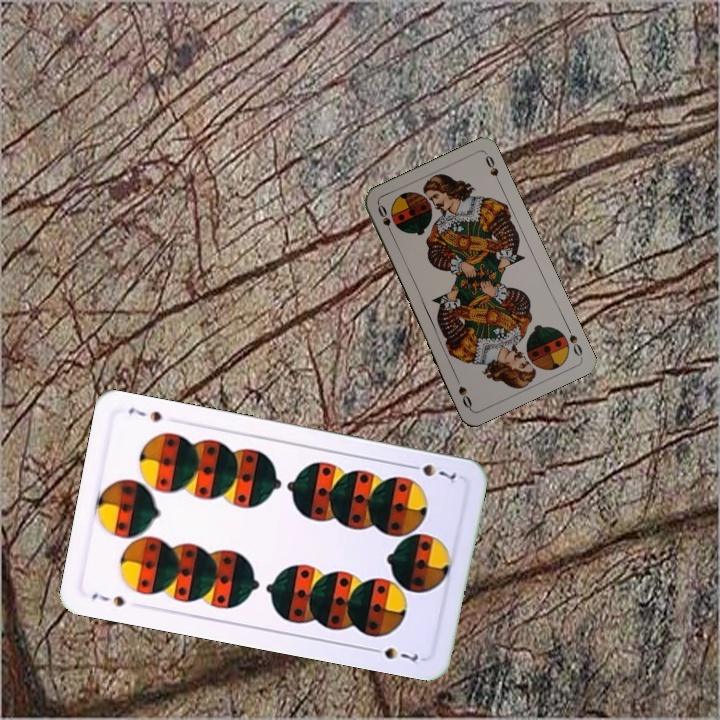S7: (403, 460, 458, 486), (88, 589, 127, 609)
SO: (374, 201, 397, 239), (562, 321, 585, 359)
